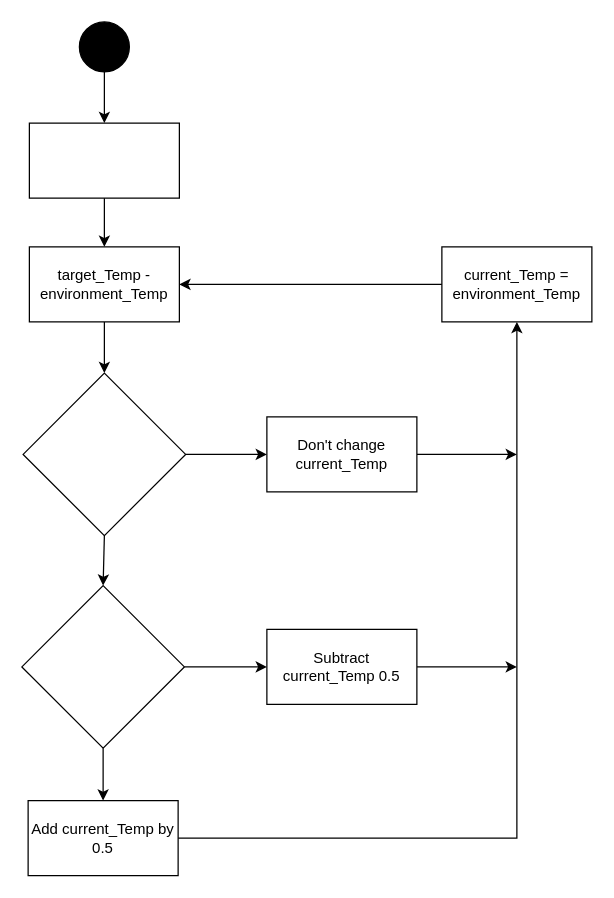
The diagram is 614 pixels wide and 898 high, and some of its shapes have lost their labels. Here are the shapes that lost their labels. From the top down, the centre of each, then its label:
At point (103, 160): "input target_Temp".
At point (104, 454): "is current_Temp 0?".
At point (102, 666): "is current_Temp >=1?".
